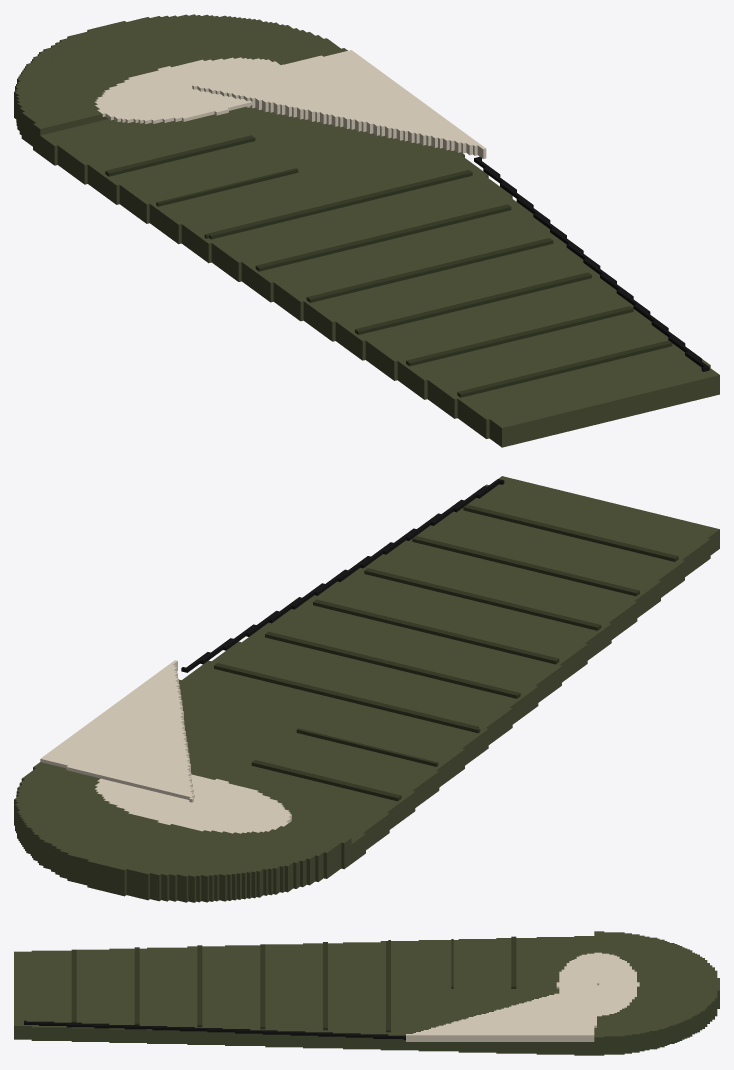
The model's file is sleeping_bag_fur.glb.
3 renders of one model, top to bottom at view 1: azimuth 30°, elevation 25°; view 2: azimuth 150°, elevation 25°; view 3: azimuth 270°, elevation 25°, orthographic. The views are drawn at different scales.
Visible parts, largest first — view 1: sleeping_bag_fur:compound; view 2: sleeping_bag_fur:compound; view 3: sleeping_bag_fur:compound.
Part boxes in pixels (left/top/right/bottom): sleeping_bag_fur:compound: left=14, top=14, right=719, bottom=447; sleeping_bag_fur:compound: left=14, top=476, right=719, bottom=902; sleeping_bag_fur:compound: left=14, top=931, right=719, bottom=1055.
Size of the model in its own units: 0.8 by 0.072 by 2.25.
